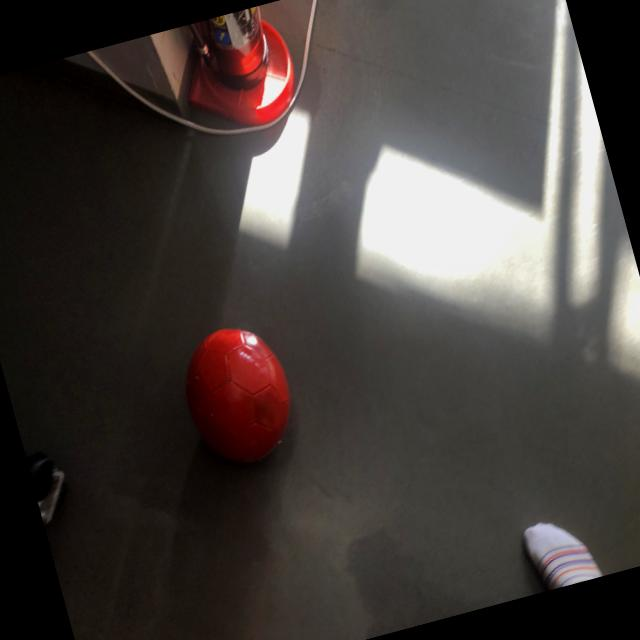red_ball: (172, 316, 306, 478)
